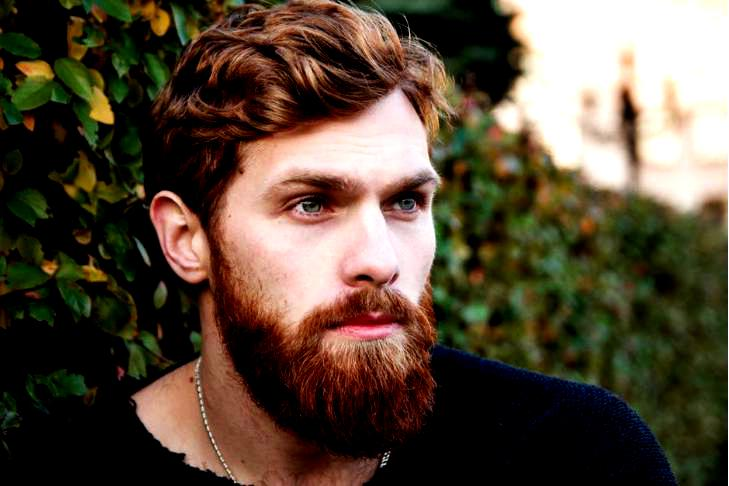face: (211, 83, 441, 433)
